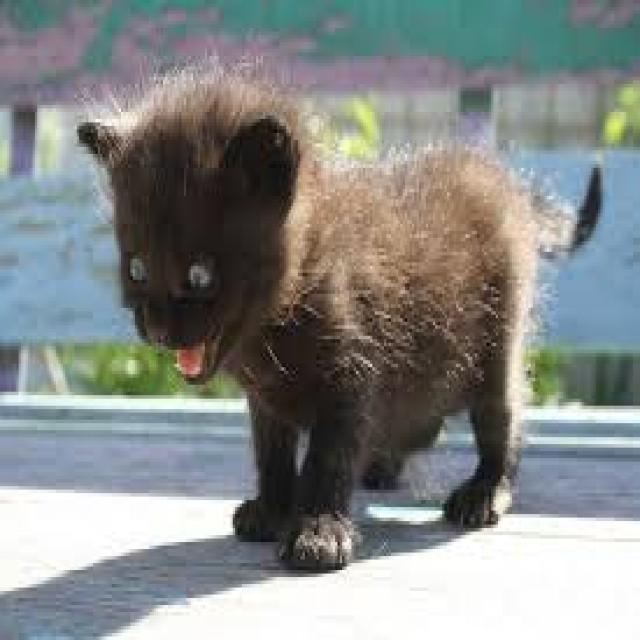Cat: (71, 54, 605, 580)
